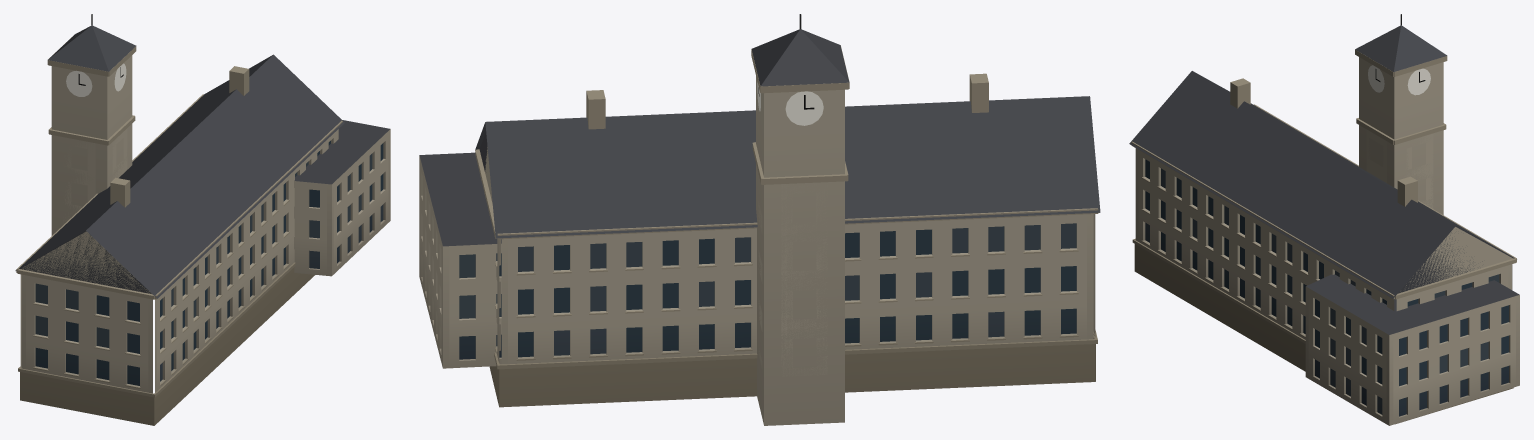
The model's file is clocktower.glb.
3 views of the same model, side by side, from view 1: azimuth 30°, elevation 25°; view 2: azimuth 150°, elevation 25°; view 3: azimuth 270°, elevation 25° (orthographic). The views are drawn at different scales.
Visible parts, largest first — view 1: clocktower_lod0; view 2: clocktower_lod0; view 3: clocktower_lod0.
Part boxes in pixels (left/top/right/bottom): clocktower_lod0: left=15, top=14, right=390, bottom=425; clocktower_lod0: left=419, top=14, right=1100, bottom=425; clocktower_lod0: left=1129, top=14, right=1519, bottom=425.
Size of what is drawn, in the model's own units: 63.74 by 40.5 by 49.11.
